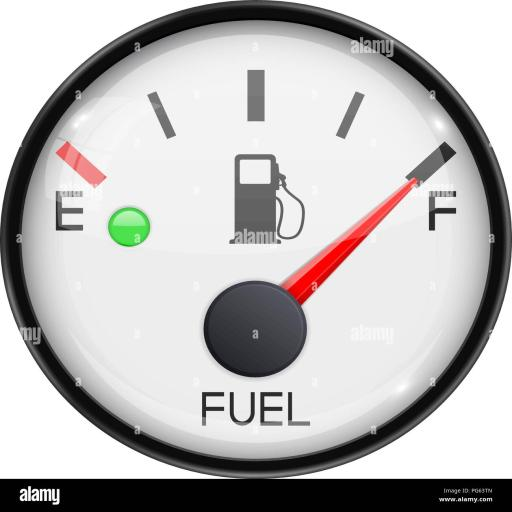empty: (49, 182, 88, 232)
fuel_icon: (225, 151, 306, 246)
full: (422, 187, 460, 231)
guage_area: (6, 4, 508, 475)
needle_center: (202, 276, 310, 378)
needle_tip: (401, 174, 420, 192)
